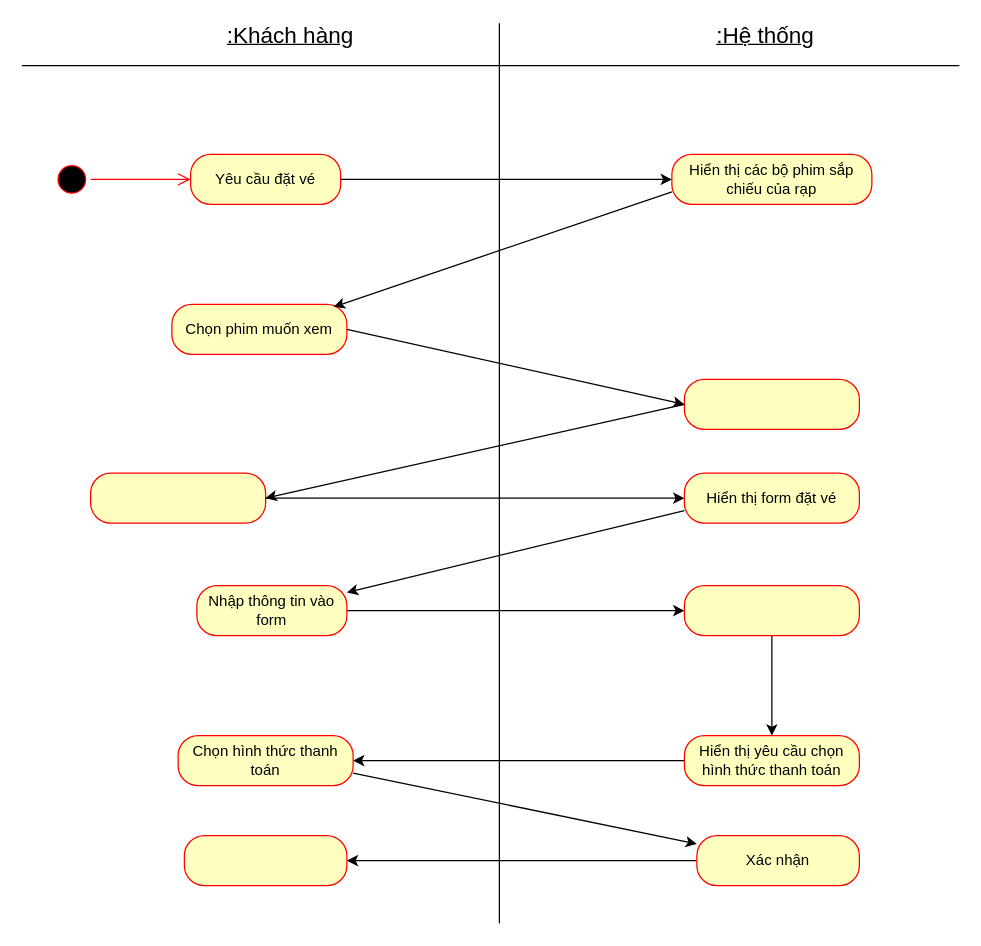
Some shapes in this 981 by 946 pixel diagram are drawn without their labels. The shapes that lost their labels are listed below. From the top down, each one's box as (x1, y1, x2, y2) in pixels, then its label:
(683, 378, 859, 429): Hiển thị danh sách lịch chiểu phim
(89, 472, 266, 523): Chọn buổi chiếu phù hợp
(683, 584, 859, 636): Cập nhập thông tin vào phiếu đặt vé
(183, 834, 347, 886): Xuất ra phiếu đặt vé
